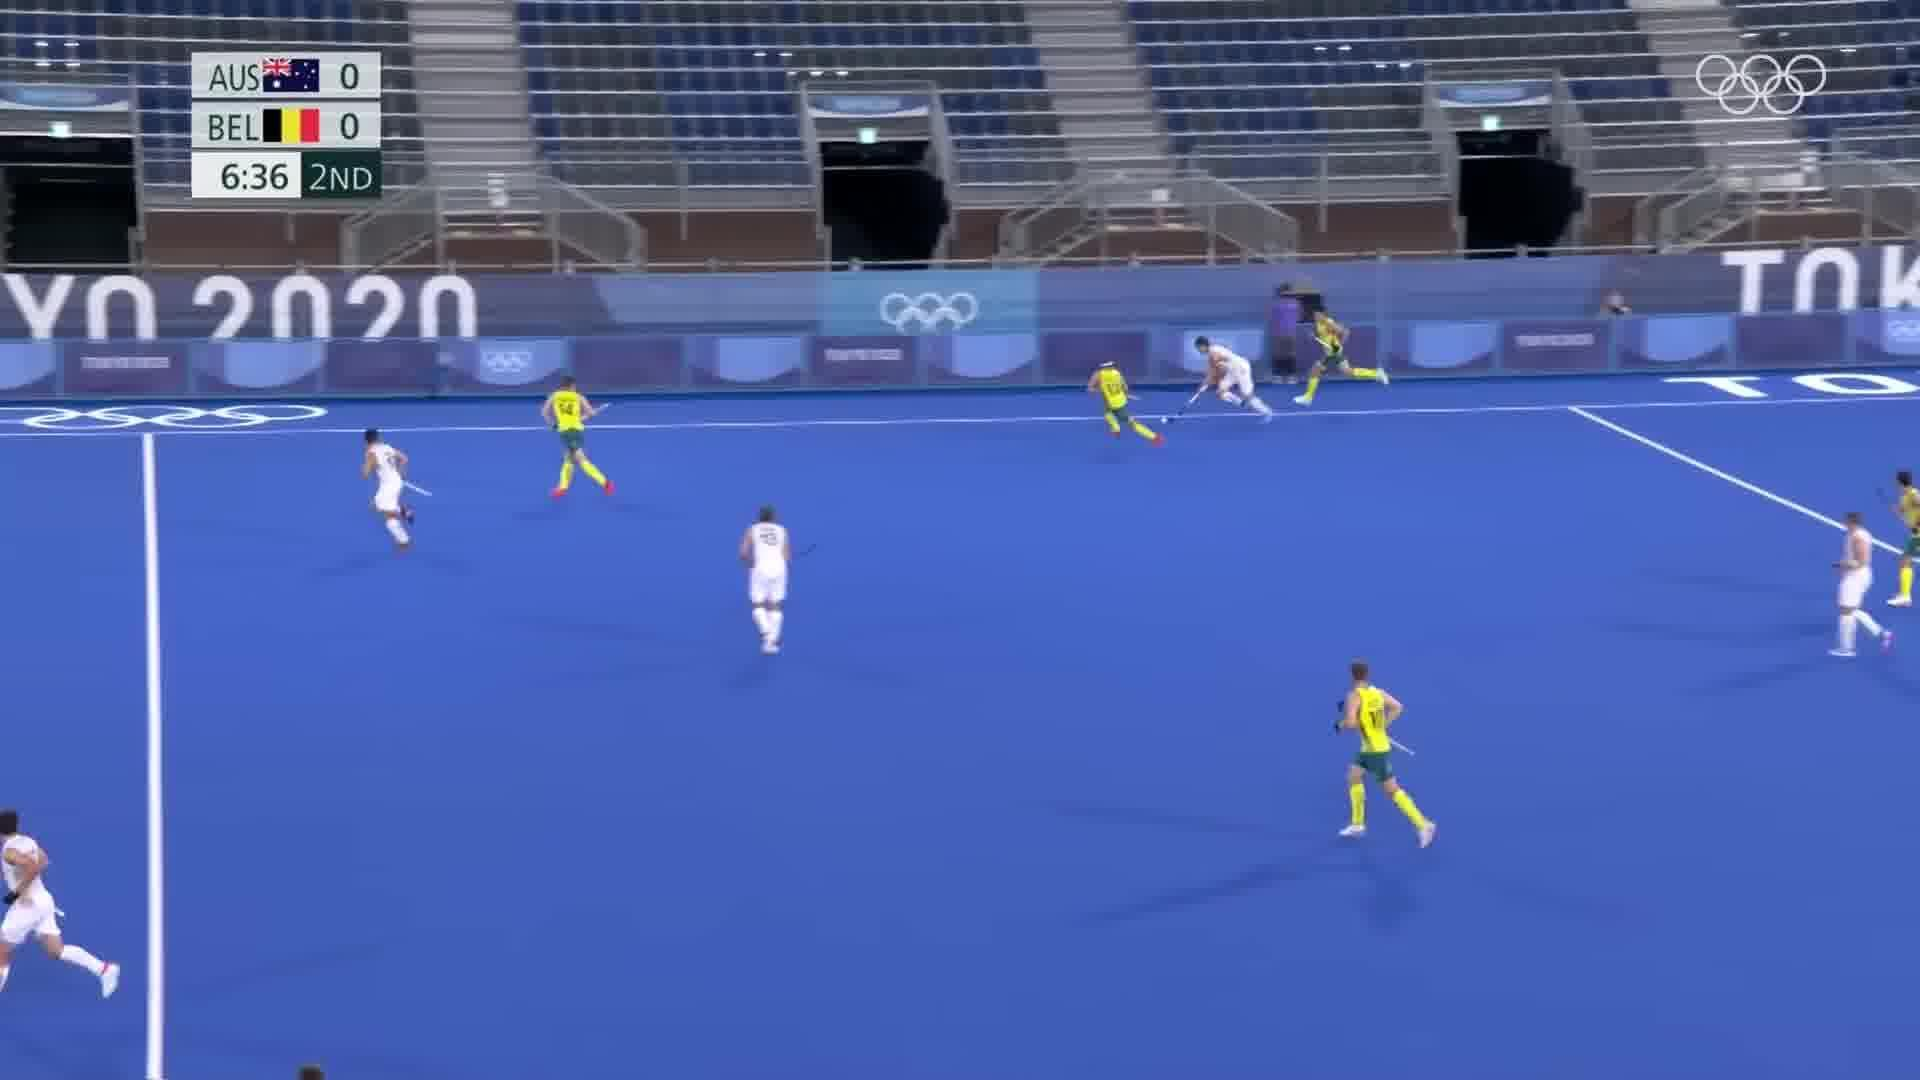ball: (1157, 411, 1173, 428)
